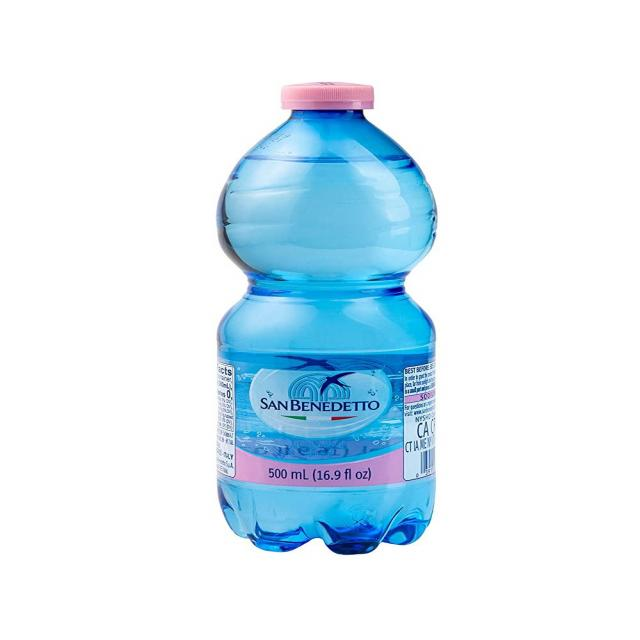bottle: (186, 48, 464, 580)
